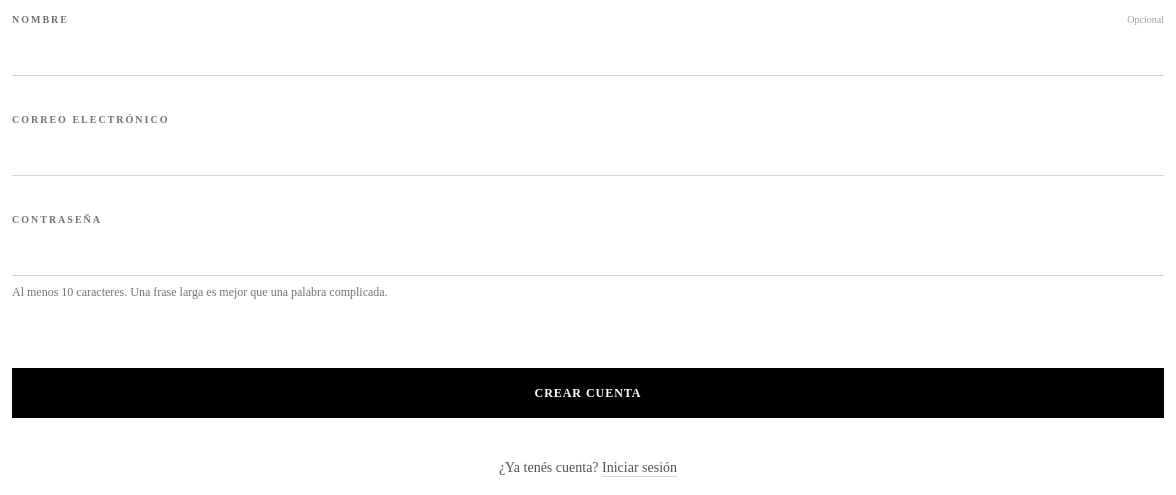
it: SignUpForm: validation › enforces the password policy on the client too
Type "Ana Perez" into the field labelled "Nombre Opcional". click: (588, 52)
box: top-left (12, 27), bottom-right (1164, 76)
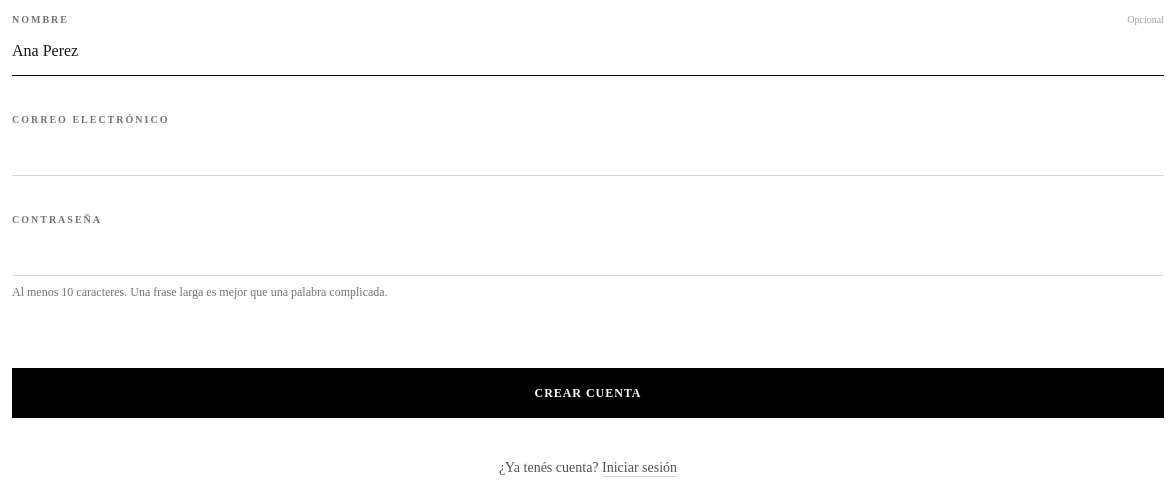
Type "ana@example.com" into the field labelled "Correo electrónico". click: (588, 152)
box: top-left (12, 127), bottom-right (1164, 176)
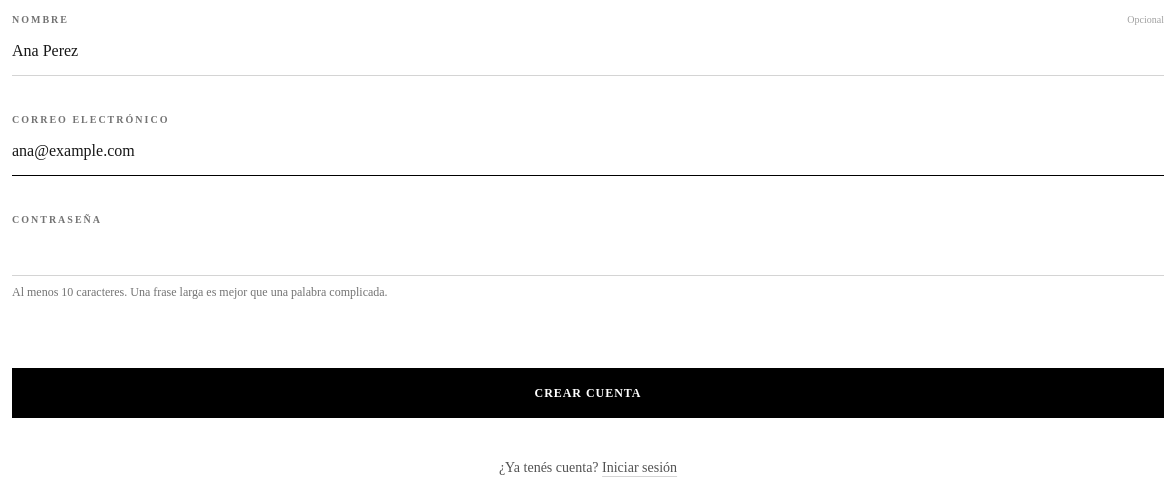
Type "corta" into the password field labelled "Contraseña". click: (588, 252)
box: top-left (12, 227), bottom-right (1164, 276)
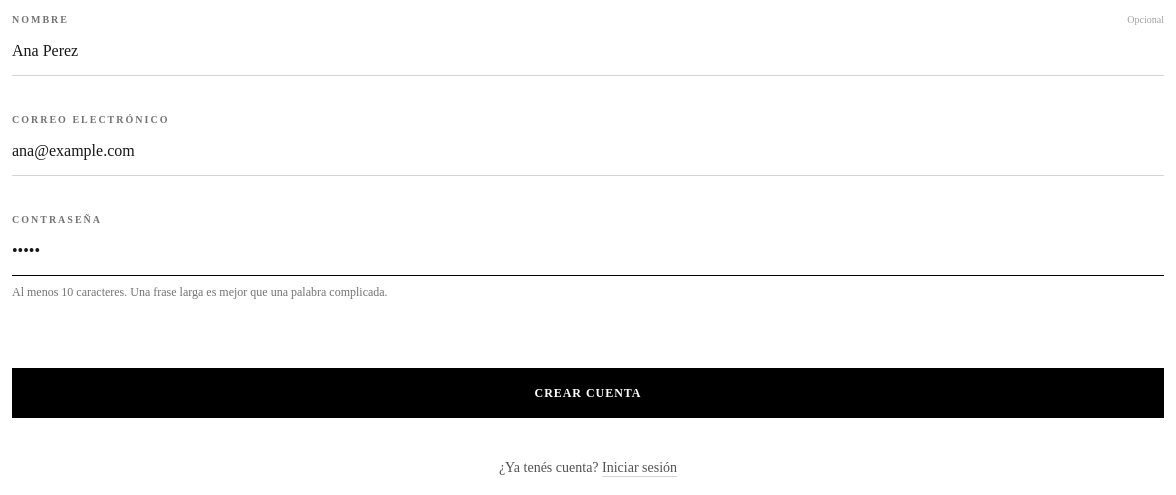
Click the button "Crear cuenta". click: (588, 393)
box: top-left (12, 368), bottom-right (1164, 418)
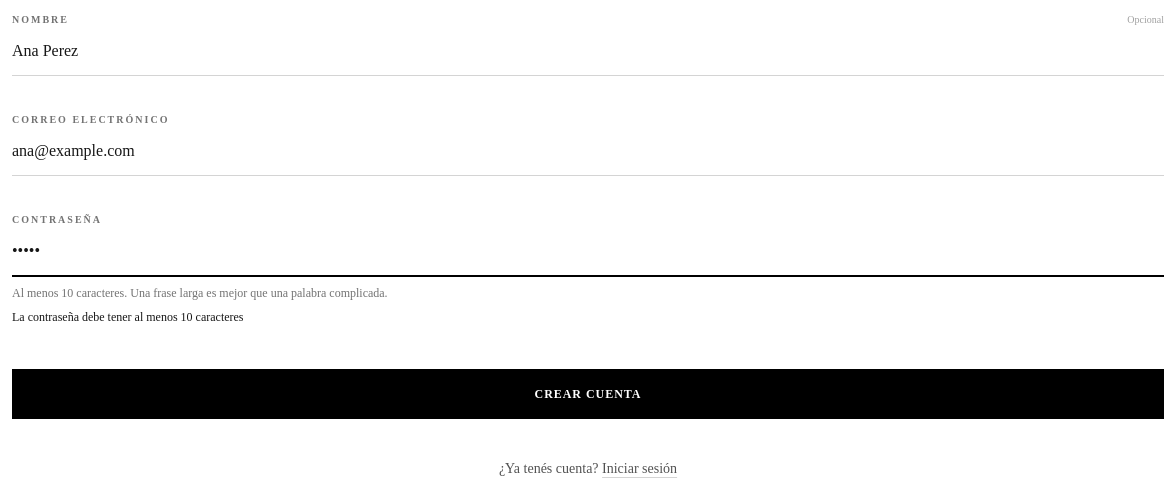
expect the text "La contraseña debe tener al menos 10 caracteres" is shown: met, box top-left (12, 310), bottom-right (244, 324)
